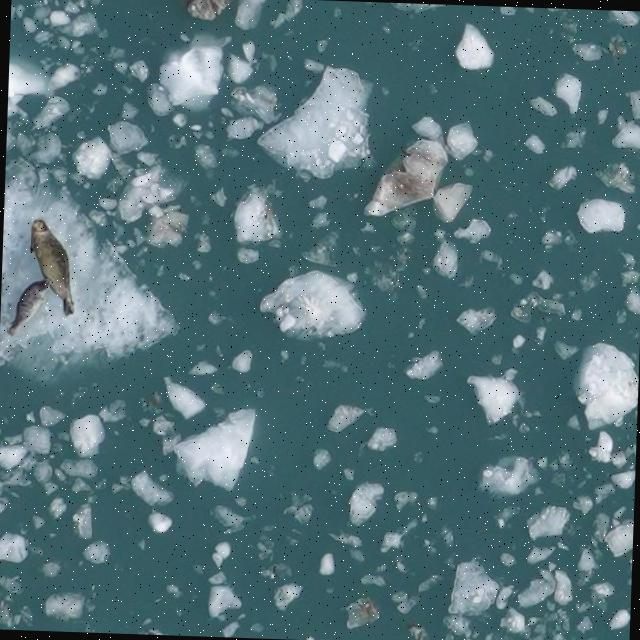seal: (11, 213, 98, 321), (0, 271, 53, 336)
